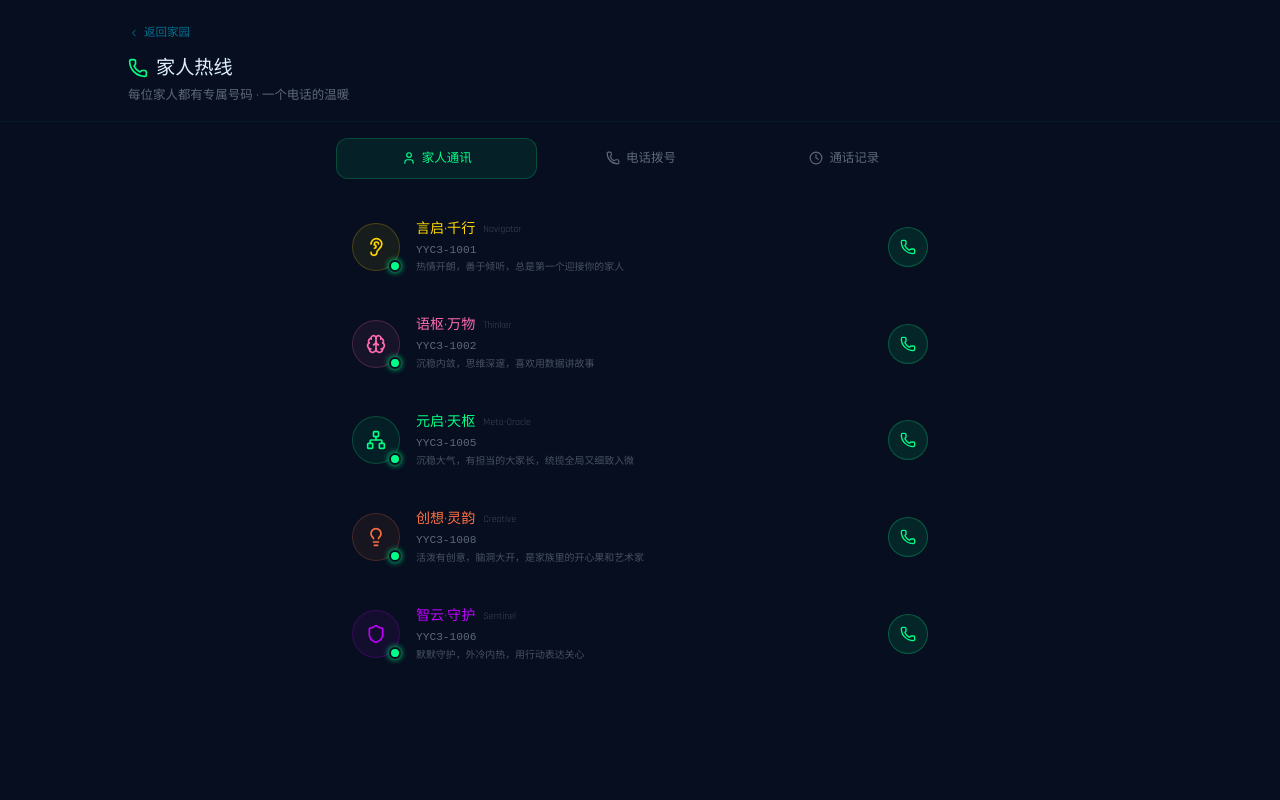
Test: FamilyPhone › Tab 切换 · 拨号盘 › 点击「电话拨号」Tab → 切换到拨号盘，展示 5 个快捷号码按钮
This screenshot has width=1280, height=800.
Click the button "电话拨号".
click(641, 158)  # box top-left (541, 138), bottom-right (741, 178)
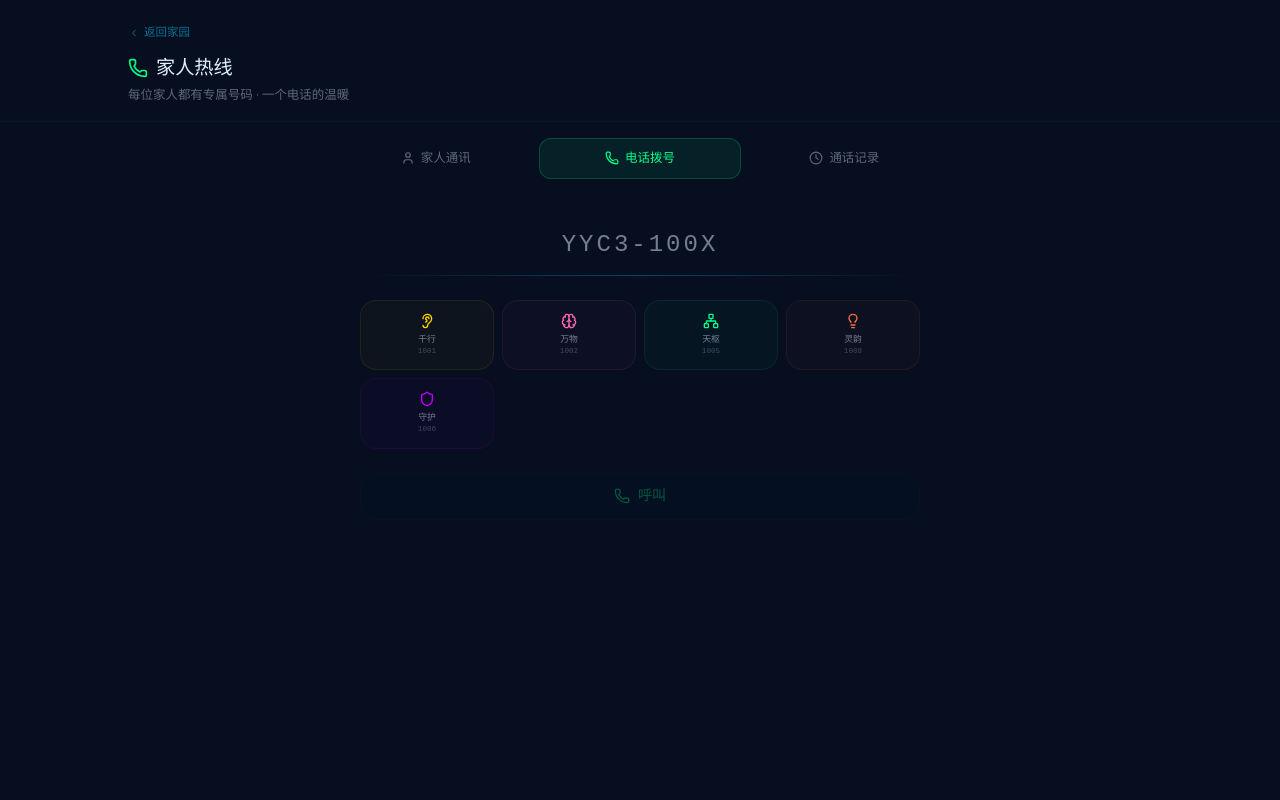
Expected: the text "千行" is shown, top-left (418, 334), bottom-right (436, 344)
Expected: the field with placeholder "YYC3-100X" is shown, top-left (360, 226), bottom-right (920, 262)
